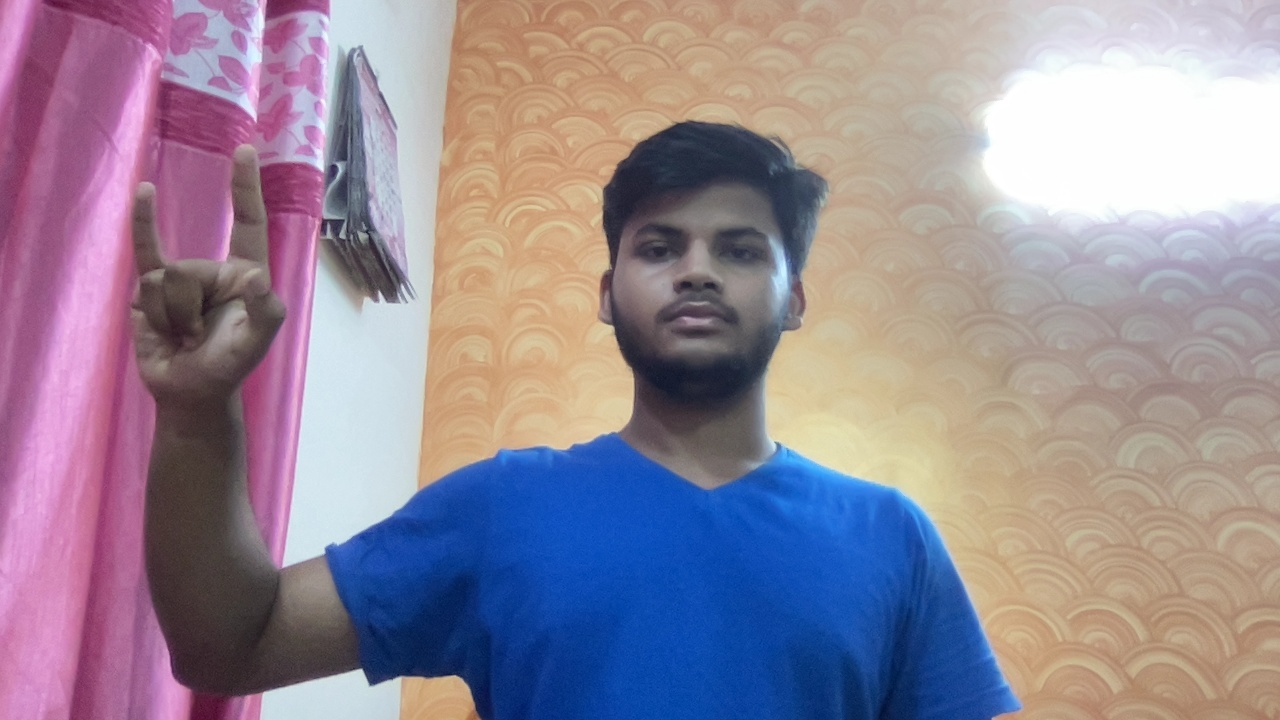iloveyou: (85, 136, 343, 436)
